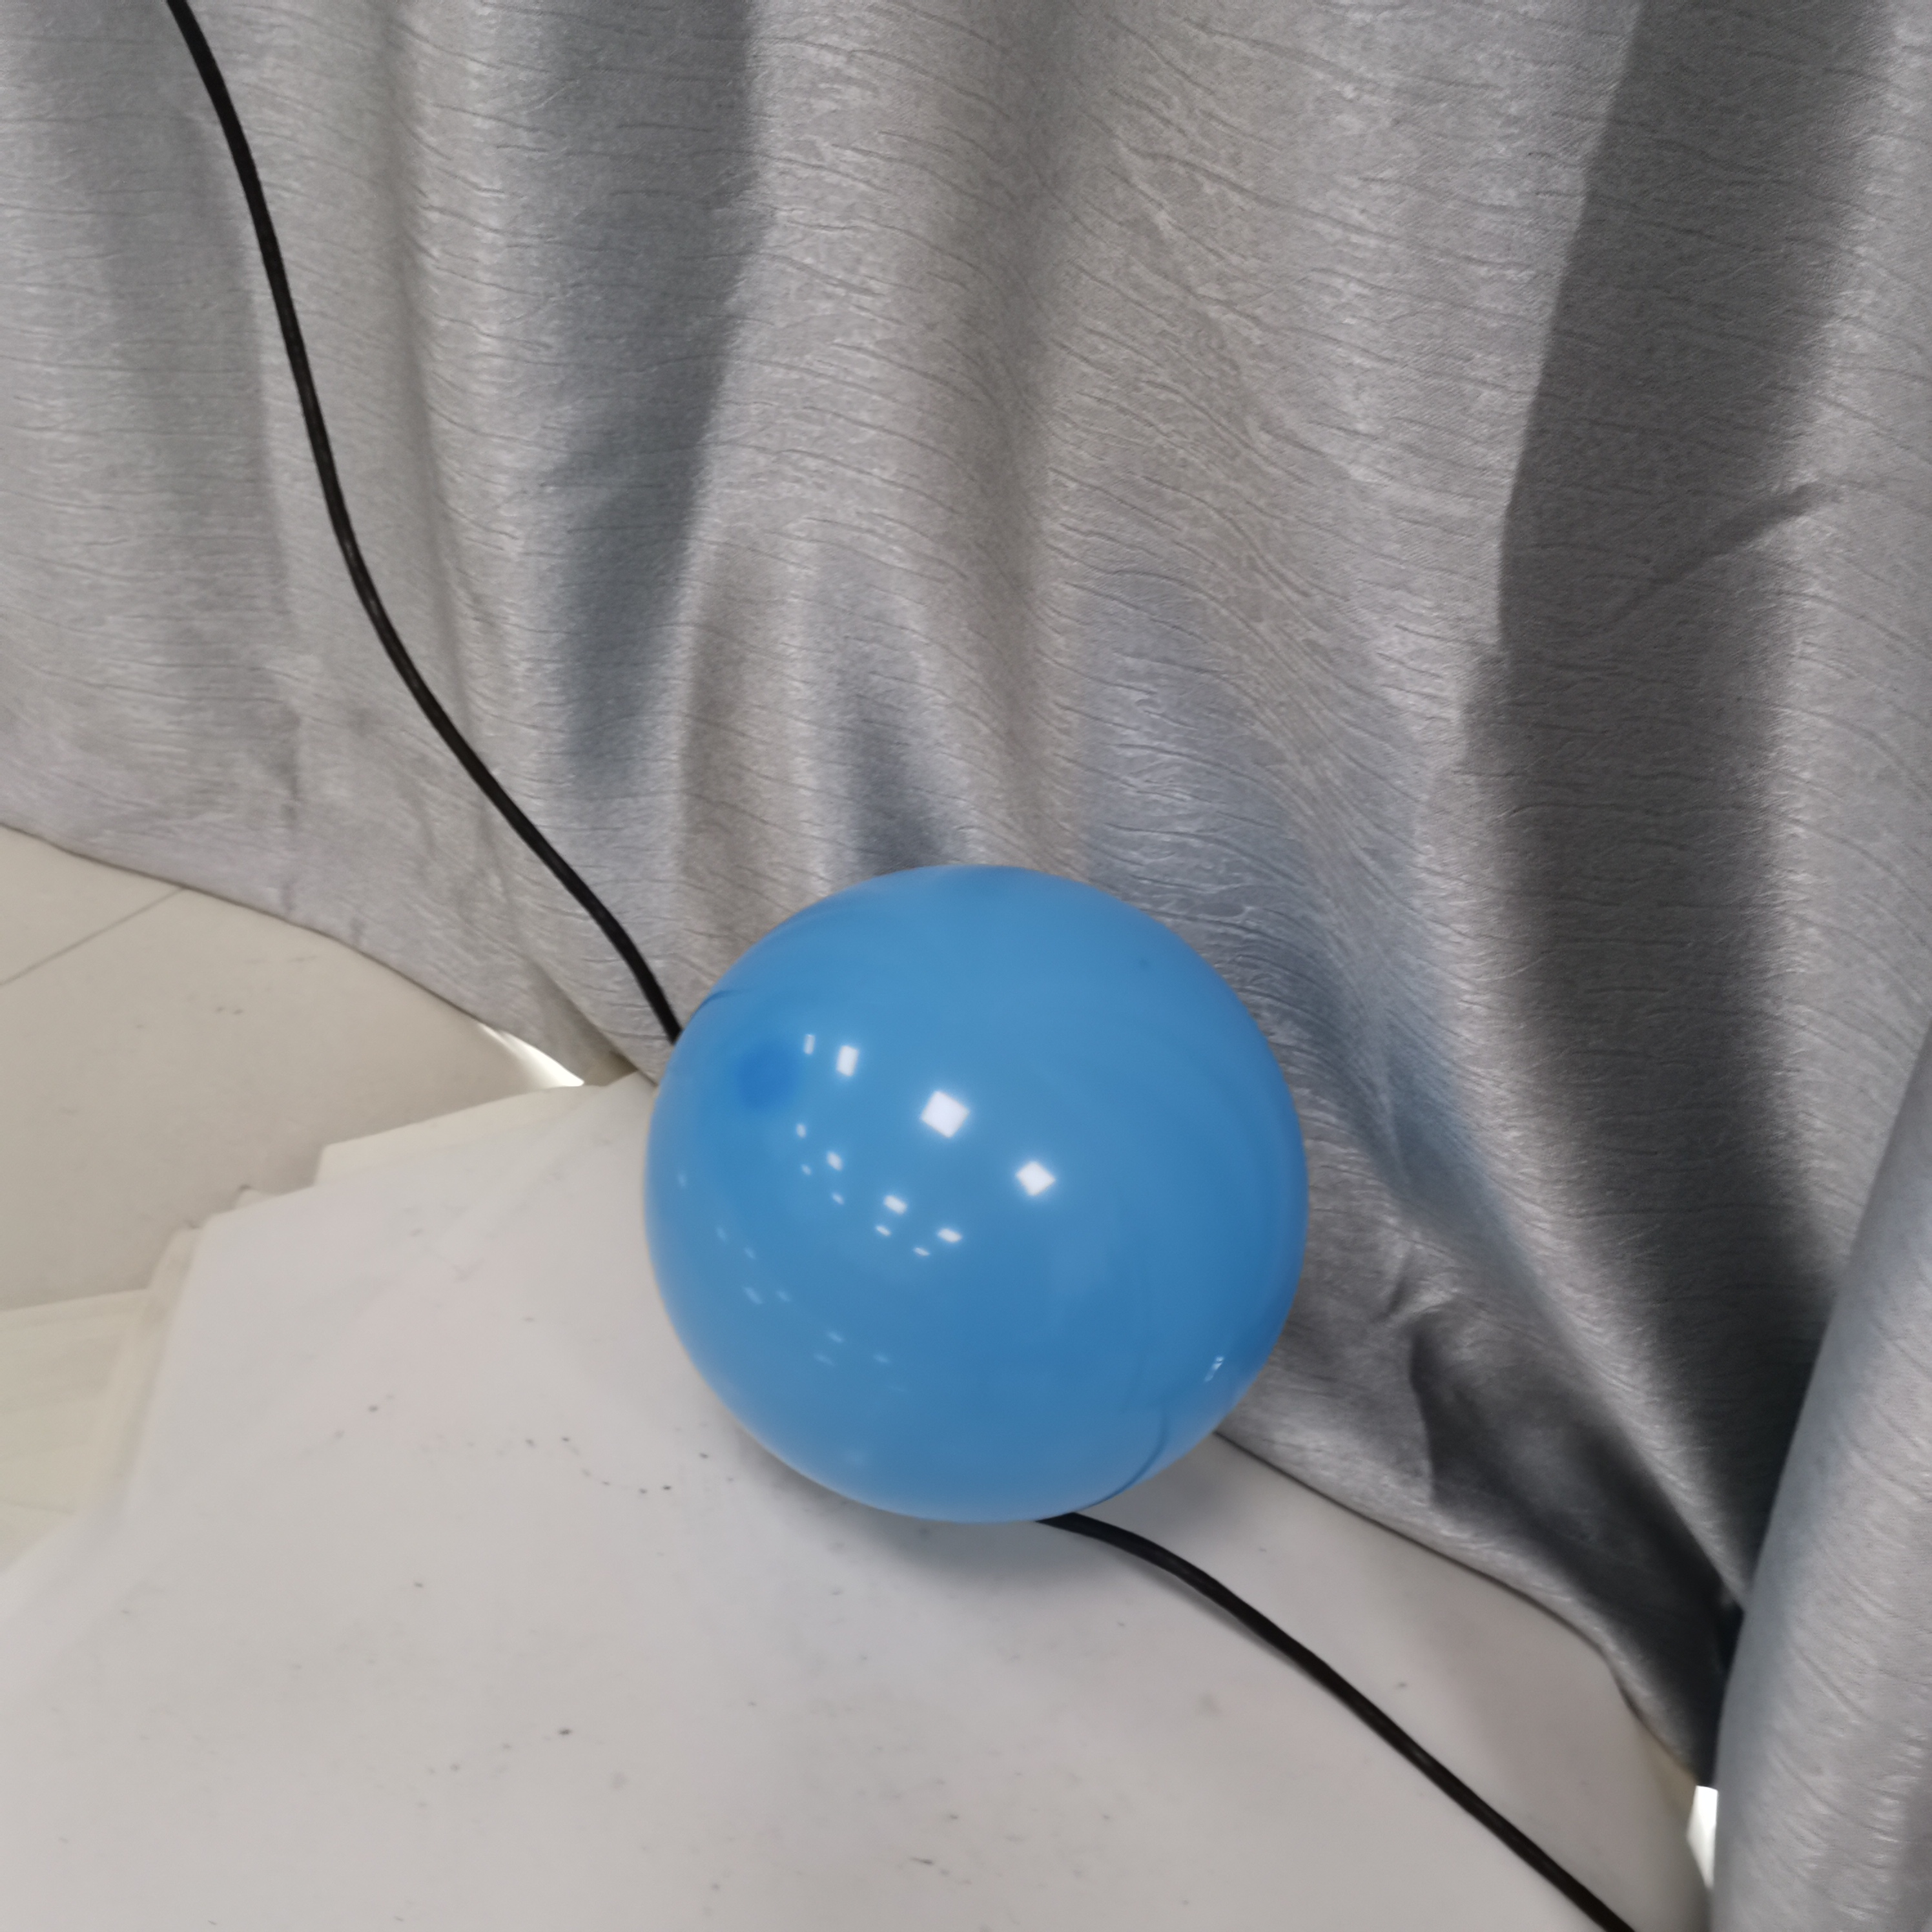balloon: (644, 870, 1309, 1530)
